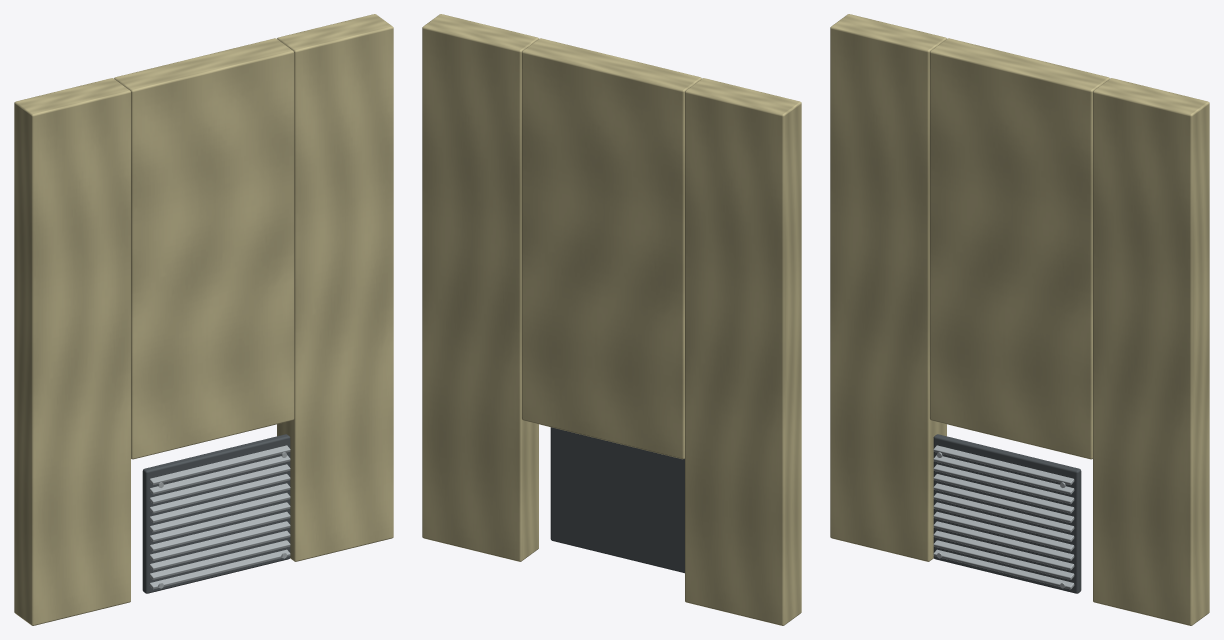
Rendered from three-d-liminal-spaces-kit-liminal-spaces-kit-crawlspace-eb7e8847.glb.
3 renders of one model, left to right at view 1: azimuth 30°, elevation 25°; view 2: azimuth 150°, elevation 25°; view 3: azimuth 330°, elevation 25°, orthographic.
Parts seen in each view (by area): view 1: crawlspace; view 2: crawlspace; view 3: crawlspace.
Part boxes in pixels (left/top/right/bottom): crawlspace: left=14, top=14, right=393, bottom=625; crawlspace: left=422, top=14, right=801, bottom=625; crawlspace: left=830, top=14, right=1209, bottom=625.
Bounding box in the file's own units: 2 × 2.7 × 0.273.
3 materials, 1 textured.
